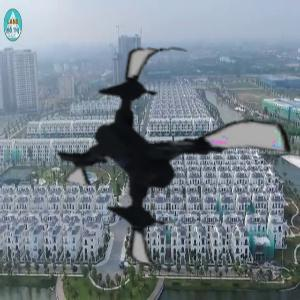drone: (53, 39, 294, 280)
